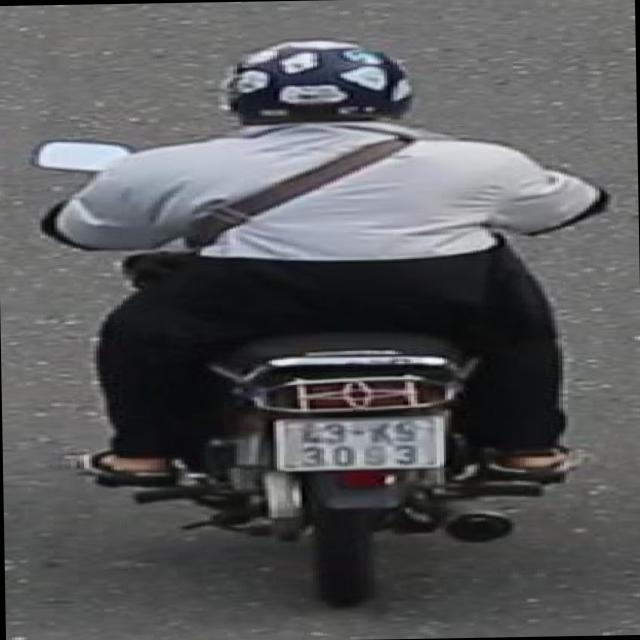LP: (258, 409, 456, 474)
helmet: (207, 31, 433, 134)
